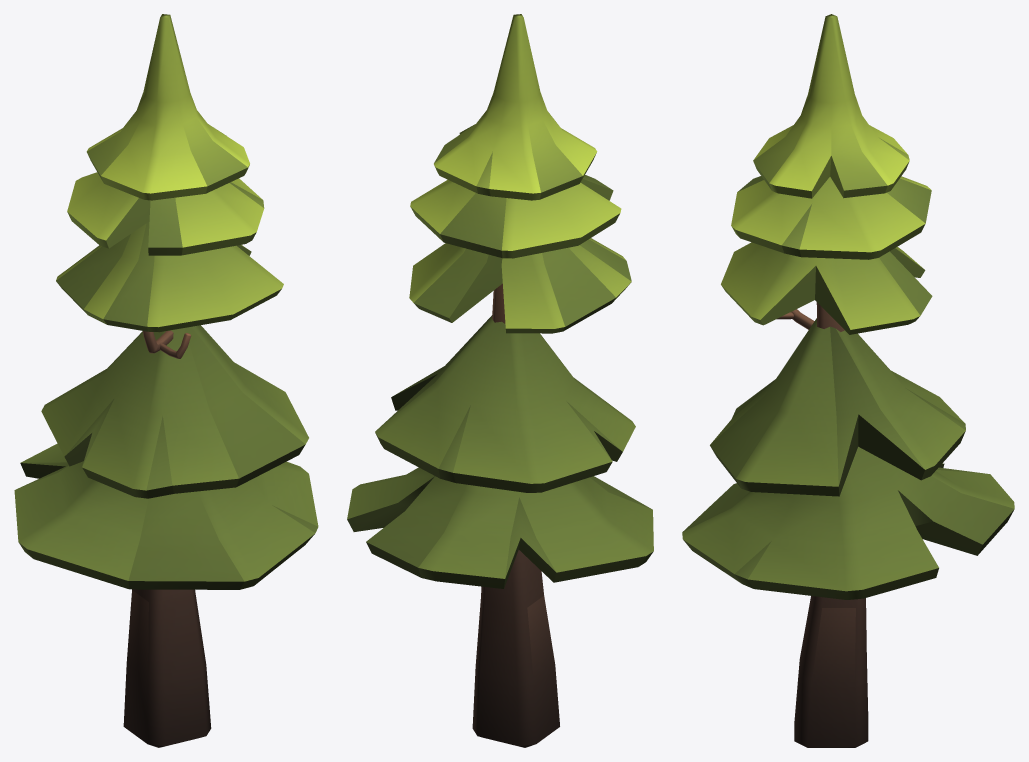
File: pine_tree_col1_06.fbx
3 renders of one model, left to right at view 1: azimuth 30°, elevation 25°; view 2: azimuth 150°, elevation 25°; view 3: azimuth 270°, elevation 25°, orthographic.
Parts seen in each view (by area): view 1: pine_tree_col1_06; view 2: pine_tree_col1_06; view 3: pine_tree_col1_06.
Part boxes in pixels (<box>): pine_tree_col1_06: <box>14,14,318,747</box>; pine_tree_col1_06: <box>347,14,653,747</box>; pine_tree_col1_06: <box>682,14,1014,747</box>.
Bounding box in the file's own units: 432 × 1030 × 431.
Materials: 1 (1 with a texture image).
